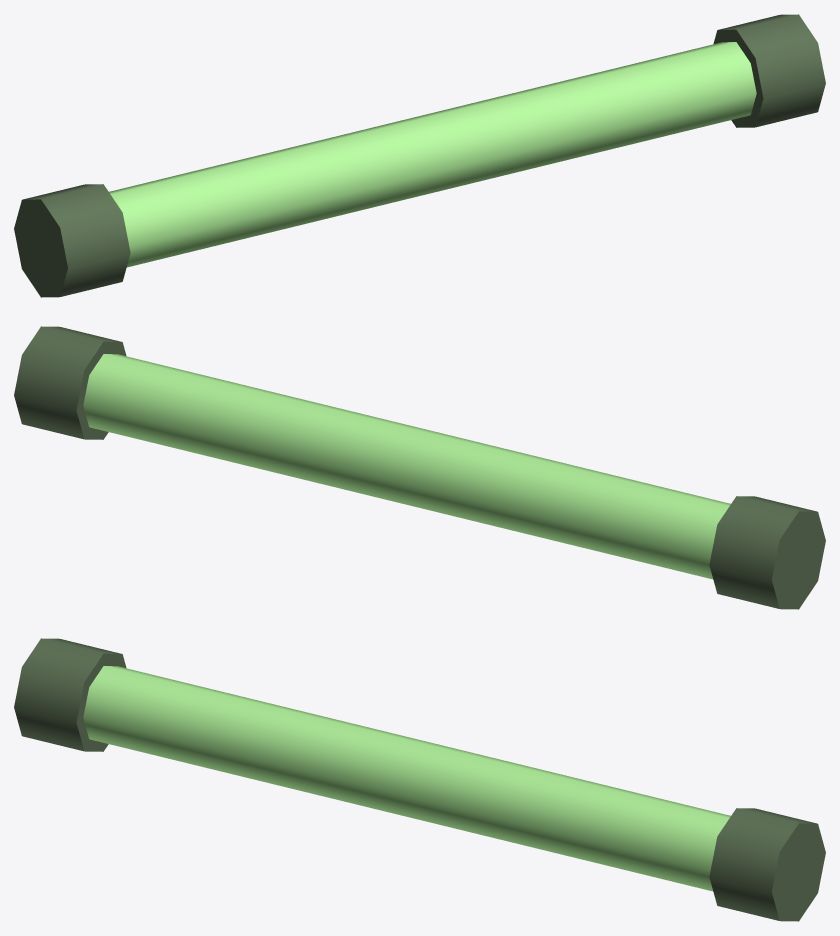
The model's file is glowstick.glb.
3 views of the same model, one above another, from view 1: azimuth 30°, elevation 25°; view 2: azimuth 150°, elevation 25°; view 3: azimuth 330°, elevation 25° (orthographic).
Visible parts, largest first — view 1: glowstick; view 2: glowstick; view 3: glowstick.
Part boxes in pixels (x1,y1,x2,y2): glowstick: (14, 14, 825, 297); glowstick: (14, 326, 825, 609); glowstick: (14, 638, 825, 921).
Bounding box in the file's own units: 0.194 × 0.024 × 0.024.
